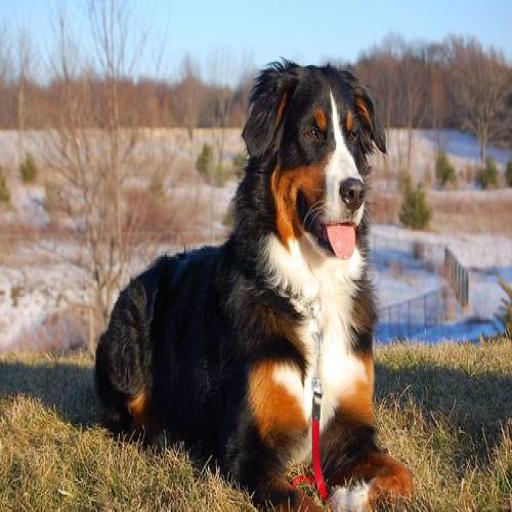dog_face: (241, 56, 390, 266)
